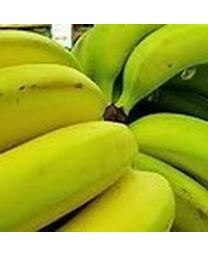banana: (0, 25, 207, 231)
